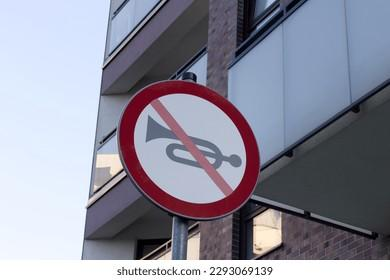Horn Prohibited: (117, 75, 265, 221)
